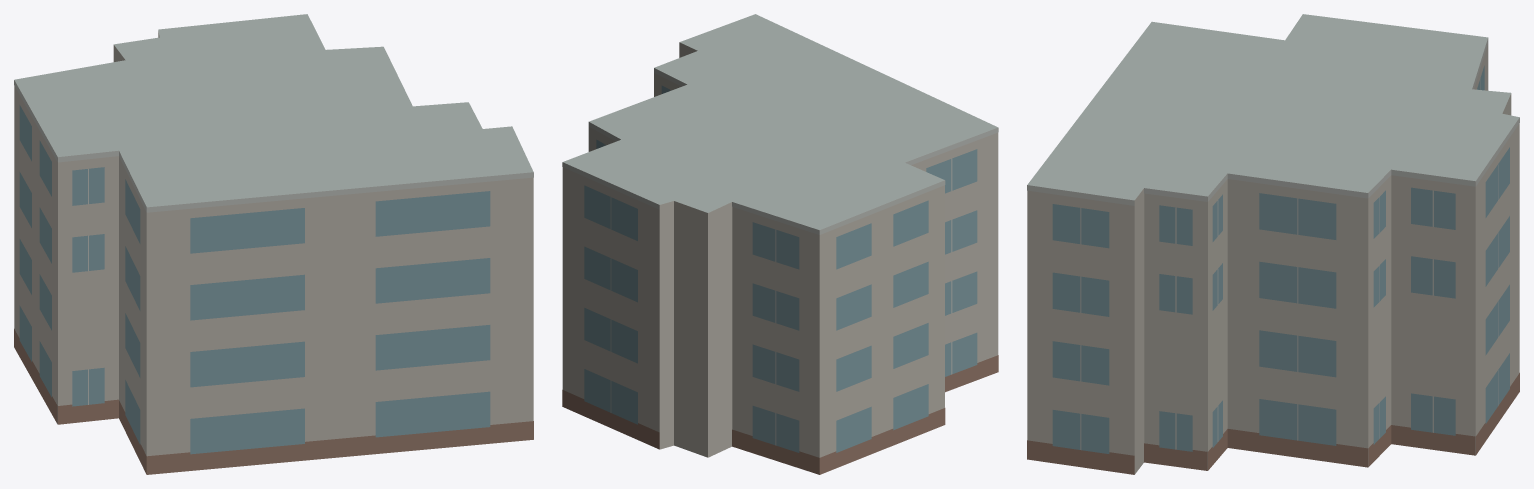
File: survey-upis-32943334.glb
3 renders of one model, left to right at view 1: azimuth 30°, elevation 25°; view 2: azimuth 150°, elevation 25°; view 3: azimuth 270°, elevation 25°, orthographic. The views are drawn at different scales.
Visible parts, largest first — view 1: survey-upis-32943334.tmp; view 2: survey-upis-32943334.tmp; view 3: survey-upis-32943334.tmp.
Boxes of the visible parts, x1,y1,x2,y2 form: survey-upis-32943334.tmp: [14, 14, 533, 474]; survey-upis-32943334.tmp: [562, 14, 998, 474]; survey-upis-32943334.tmp: [1027, 14, 1519, 474].
Size of the model in its own units: 17.79 by 12.2 by 19.86.
